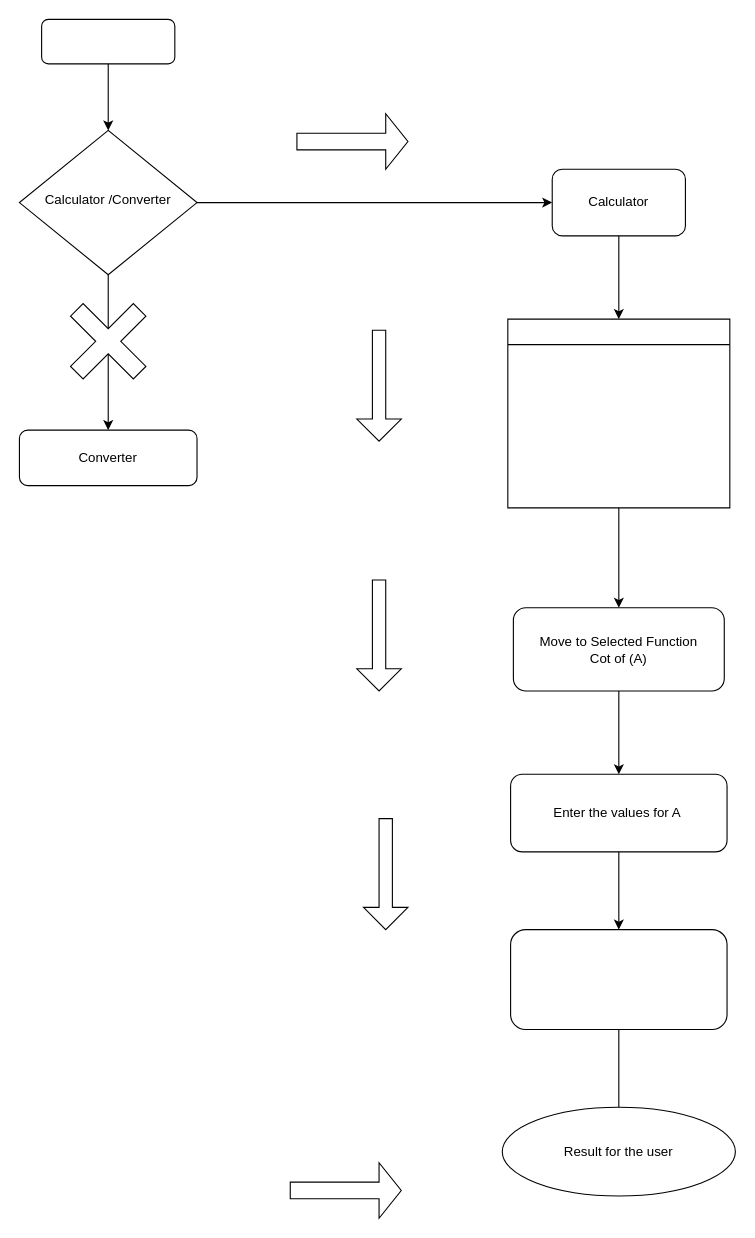
This 755x1238 diagram has some shape labels left out. Here are the shapes that lost their labels. From the top down, the centre of each, then its label:
At point (108, 41): "User interface".
At point (618, 413): "Function of Calculator 21.Cot(A)".
At point (618, 979): "result = 1 / (sin(A * 3.14159 / 180))".
